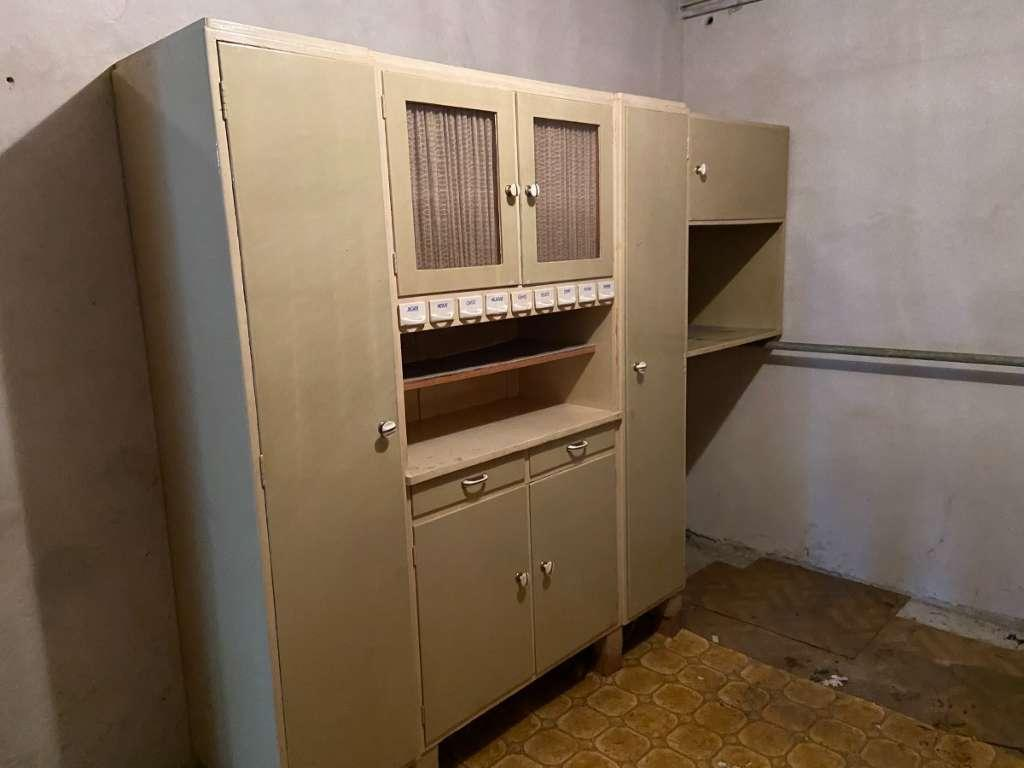cabinet_door: (239, 38, 404, 768), (631, 116, 690, 602), (393, 86, 516, 277), (420, 515, 531, 687), (524, 104, 617, 270), (529, 476, 619, 629), (687, 121, 789, 220), (412, 468, 523, 507), (531, 432, 616, 472)
handle: (456, 471, 493, 499), (560, 436, 595, 460), (629, 354, 652, 390), (372, 414, 400, 442), (689, 157, 716, 186), (510, 566, 531, 596), (540, 554, 558, 580), (524, 182, 540, 209), (504, 184, 519, 212)
